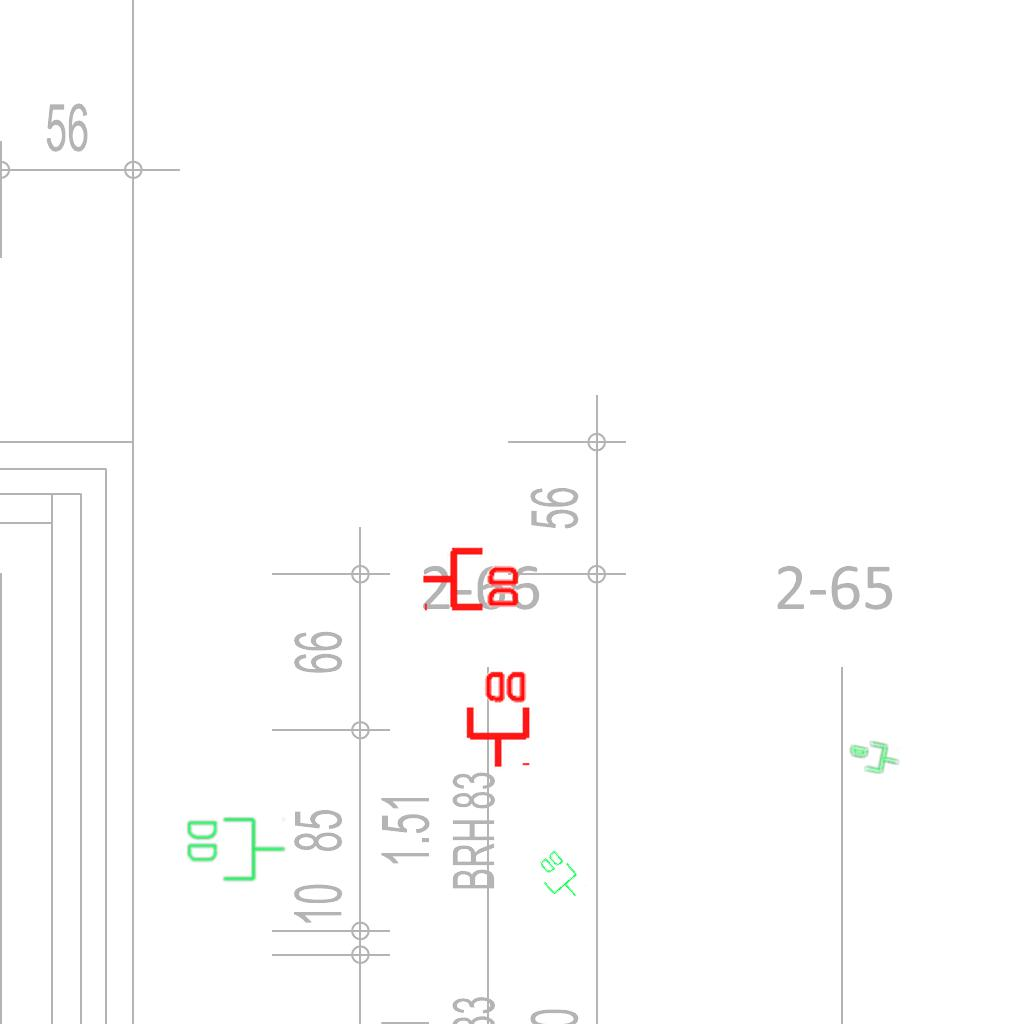Datenanschluss_einfach: (846, 736, 902, 780)
Datenanschluss_zweifach: (420, 543, 523, 612), (462, 667, 531, 770), (184, 814, 287, 883), (529, 846, 590, 908)
